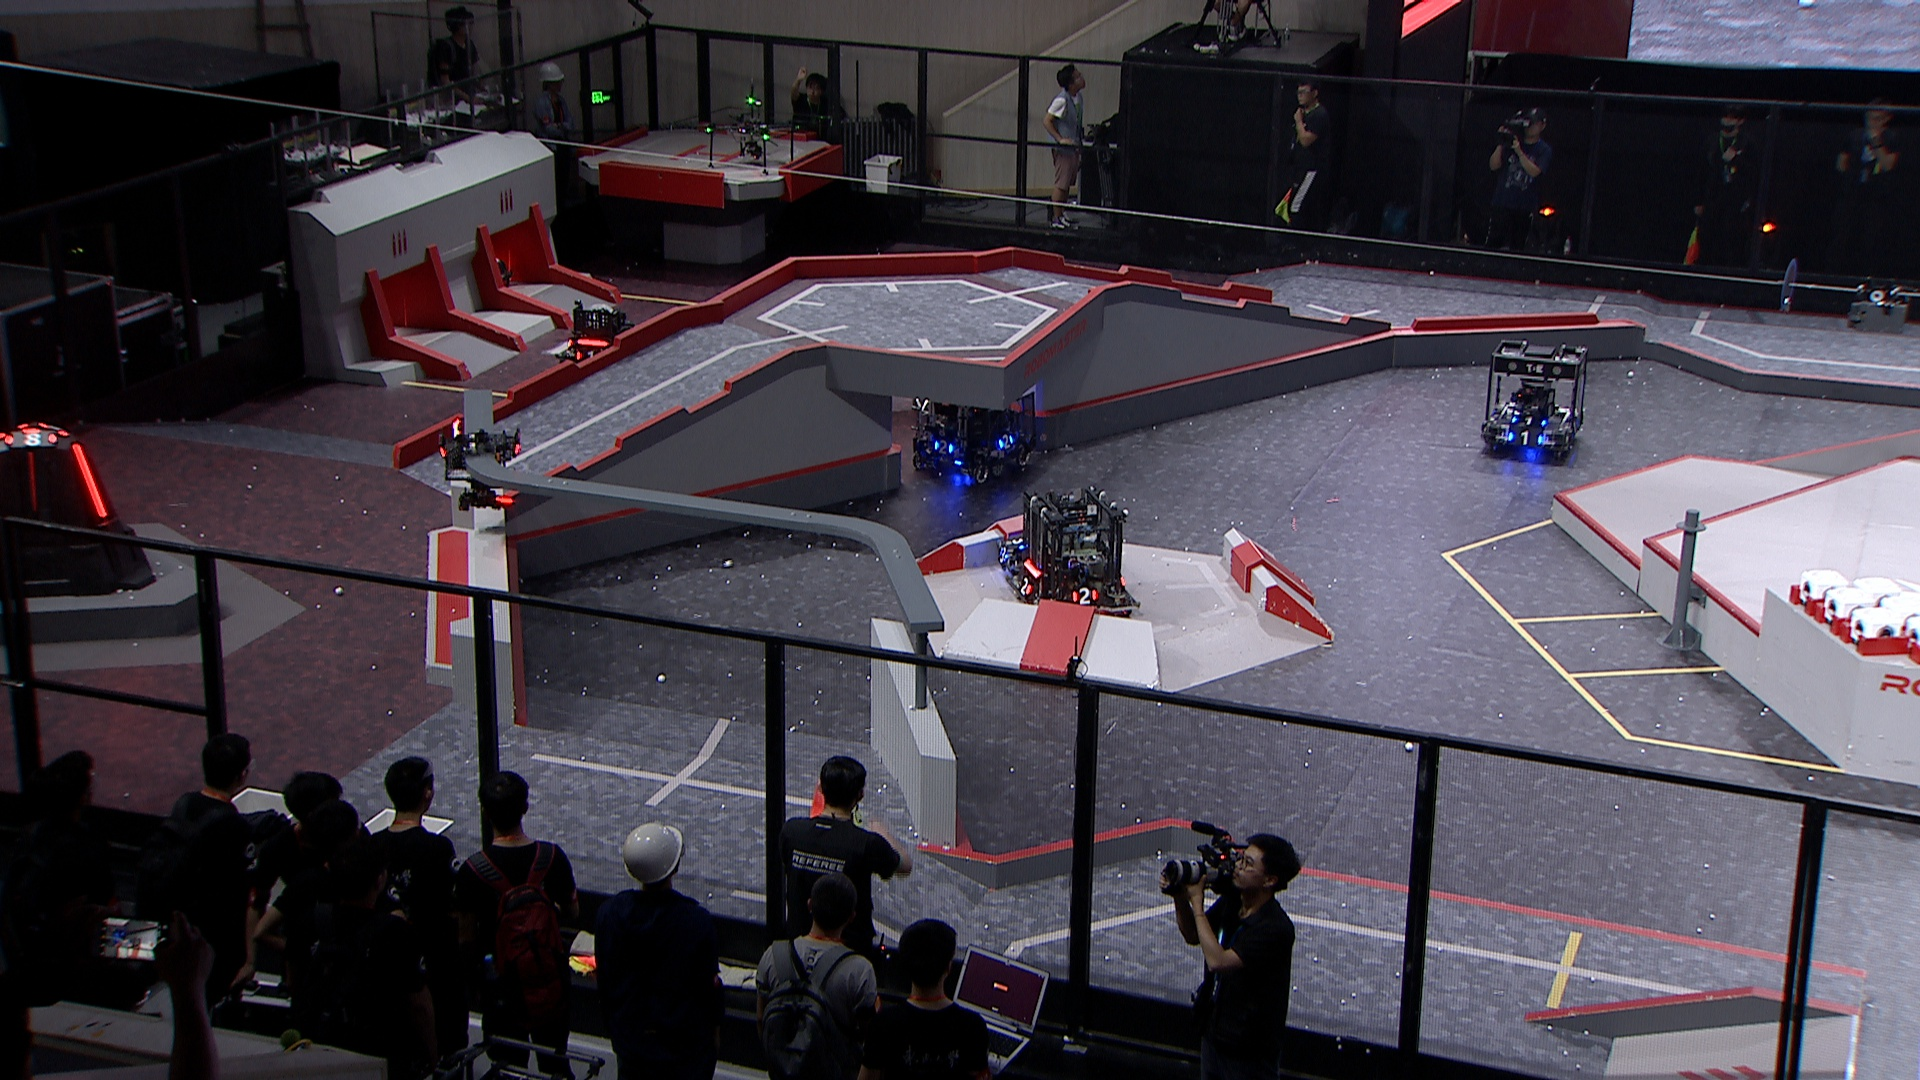armor: (69, 442, 109, 520), (25, 451, 40, 514), (1506, 433, 1543, 451), (7, 433, 55, 446), (1067, 585, 1097, 605), (932, 436, 953, 456), (1513, 414, 1539, 429), (994, 545, 1011, 564), (576, 347, 595, 363), (1000, 431, 1015, 448), (1017, 575, 1031, 593), (1007, 534, 1025, 549)
car: (1006, 484, 1138, 621), (911, 363, 1040, 488), (1480, 334, 1588, 465), (560, 301, 636, 378), (476, 245, 541, 305), (992, 516, 1051, 579)
watcher: (434, 417, 527, 514)
